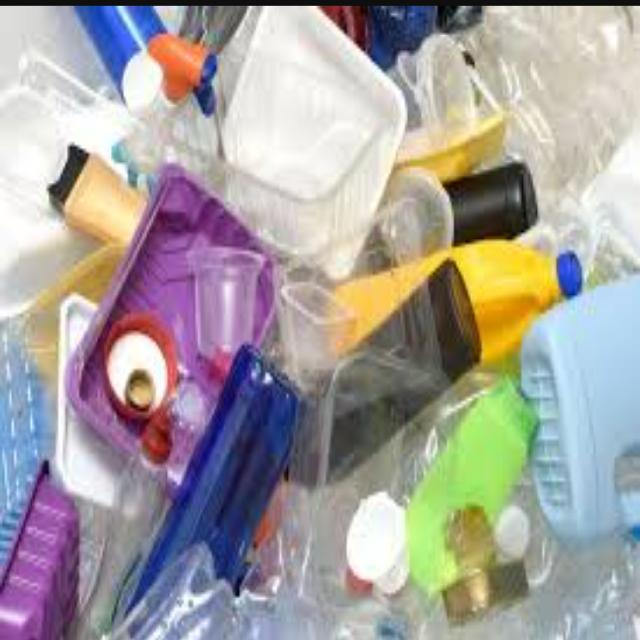KemasanPlastik: (321, 342, 450, 617), (190, 240, 264, 357), (279, 270, 350, 367)
